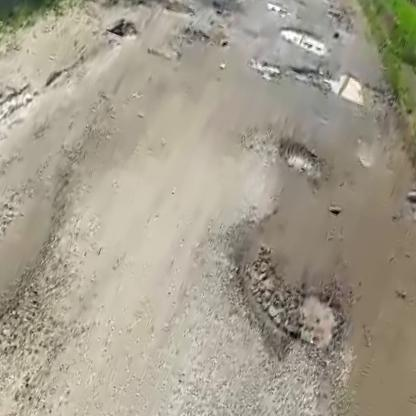pothole: (200, 227, 364, 372), (280, 51, 370, 104), (267, 130, 332, 184), (275, 18, 336, 58), (251, 55, 286, 82)
